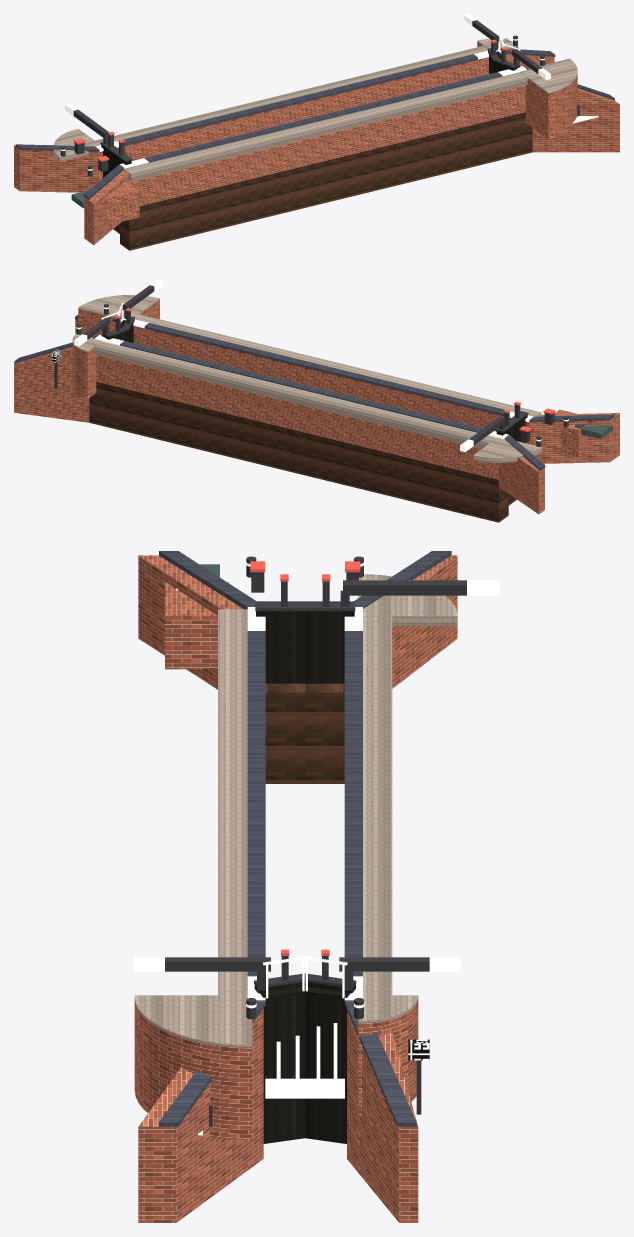
File: lock-33.glb
3 renders of one model, top to bottom at view 1: azimuth 30°, elevation 25°; view 2: azimuth 150°, elevation 25°; view 3: azimuth 270°, elevation 25°, orthographic. The views are drawn at different scales.
Parts seen in each view (by area): view 1: Chamber, ChamberWet, Edge, Coping.001, TopGateCap, Coping, TopGate; view 2: Chamber, ChamberWet, Edge, Coping.001, TopGateCap, Coping, TopGate, WeirWater; view 3: Chamber, Edge, Coping.001, TopGate, TopGateCap, ChamberWet, Coping, Leak.
Part boxes in pixels (x1,y1,x2,y2): Chamber: (14, 42, 619, 245); ChamberWet: (113, 112, 532, 250); Edge: (54, 39, 577, 181); Coping.001: (15, 49, 614, 199); TopGateCap: (60, 20, 579, 176); Coping: (60, 14, 550, 170); TopGate: (101, 51, 520, 177); Chamber: (14, 299, 619, 514); ChamberWet: (89, 382, 516, 522); Edge: (72, 295, 542, 462); Coping.001: (14, 315, 614, 470); TopGateCap: (54, 285, 568, 446); Coping: (74, 279, 568, 452); TopGate: (101, 319, 527, 442); WeirWater: (581, 425, 612, 439); Chamber: (134, 555, 457, 1222); Edge: (134, 574, 457, 1047); Coping.001: (159, 551, 451, 1126); TopGate: (254, 611, 355, 1143); TopGateCap: (165, 556, 466, 1126); ChamberWet: (265, 683, 344, 783); Coping: (134, 562, 499, 1008); Leak: (176, 588, 344, 1135).
Size of the model in its own units: 32.15 by 5.69 by 9.66.
11 materials, 8 textured.
